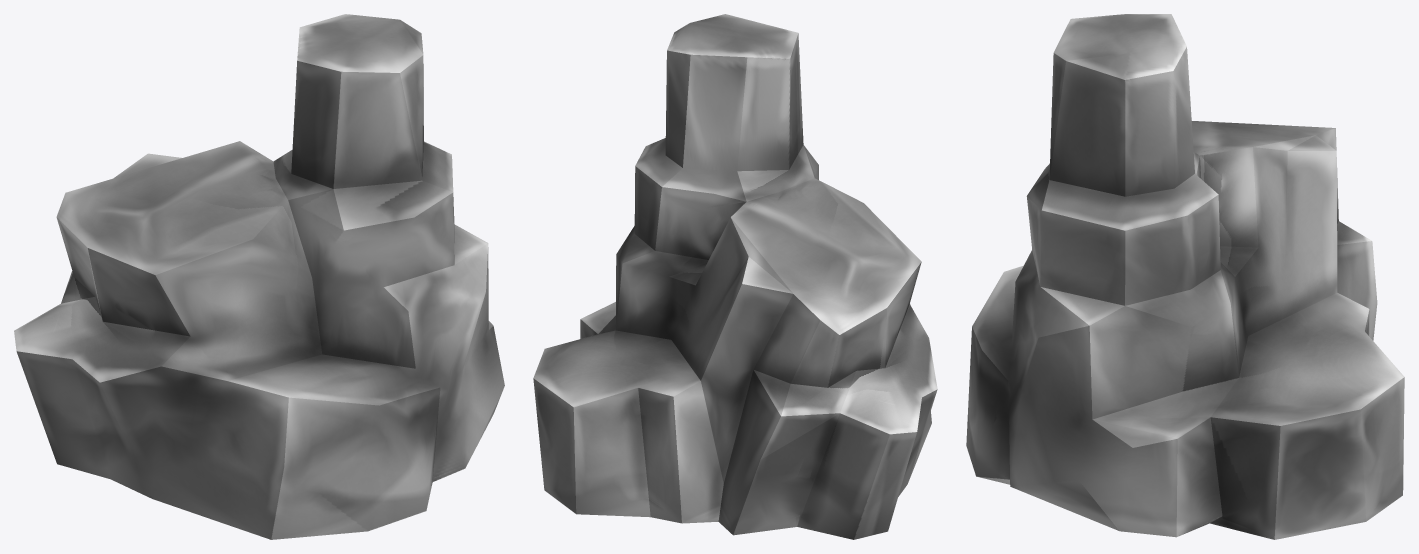
File: roka.fbx
3 views of the same model, side by side, from view 1: azimuth 30°, elevation 25°; view 2: azimuth 150°, elevation 25°; view 3: azimuth 270°, elevation 25° (orthographic). The views are drawn at different scales.
Parts seen in each view (by area): view 1: roca2obj; view 2: roca2obj; view 3: roca2obj.
Part boxes in pixels (x1,y1,x2,y2): roca2obj: (14,14,504,539); roca2obj: (533,14,937,539); roca2obj: (966,14,1404,539).
Size of the model in its own units: 207 by 208 by 184.
1 material, 1 textured.
